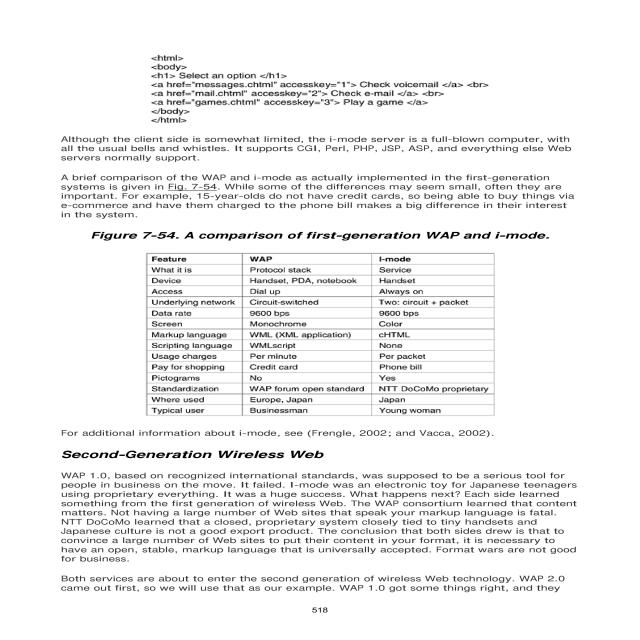diagram: (69, 226, 564, 420)
